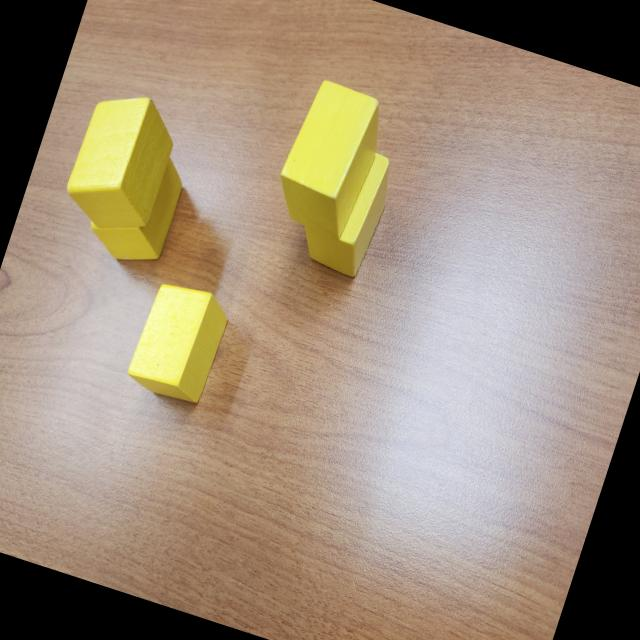yellow: (58, 81, 186, 243), (267, 76, 390, 244), (122, 276, 236, 410), (81, 140, 192, 274), (294, 140, 399, 280)
